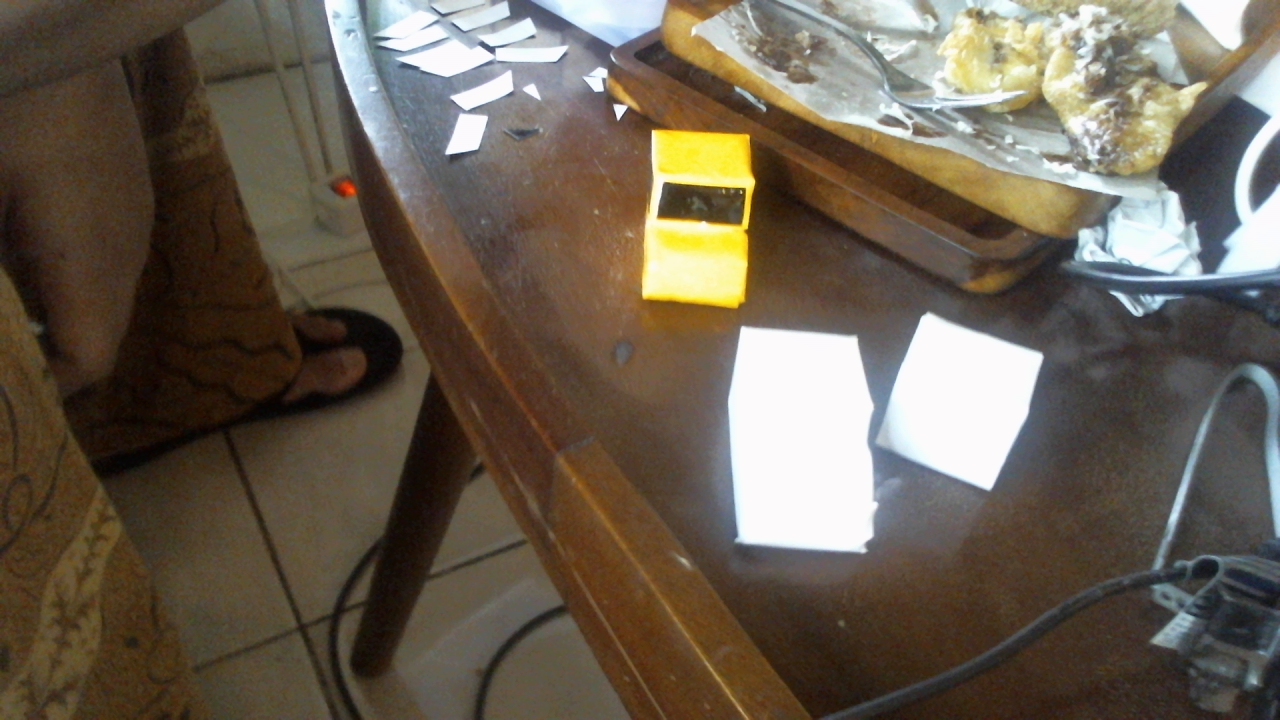Kijang Kapsul: (616, 116, 798, 319)
